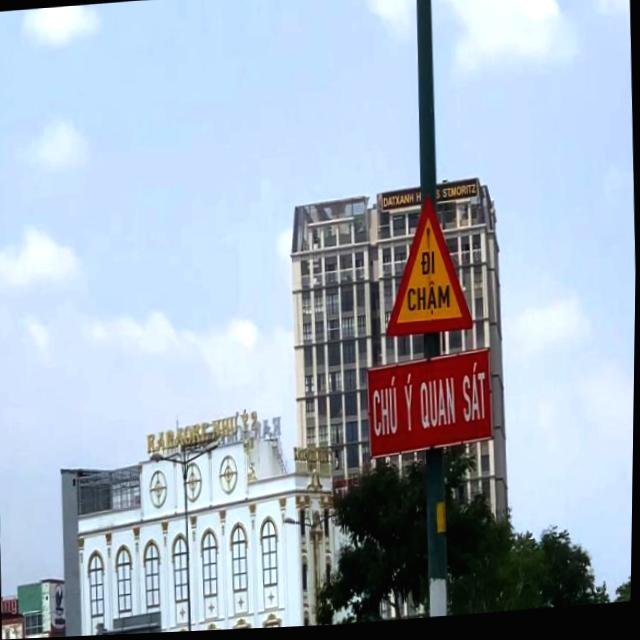Di cham: (380, 193, 477, 341)
